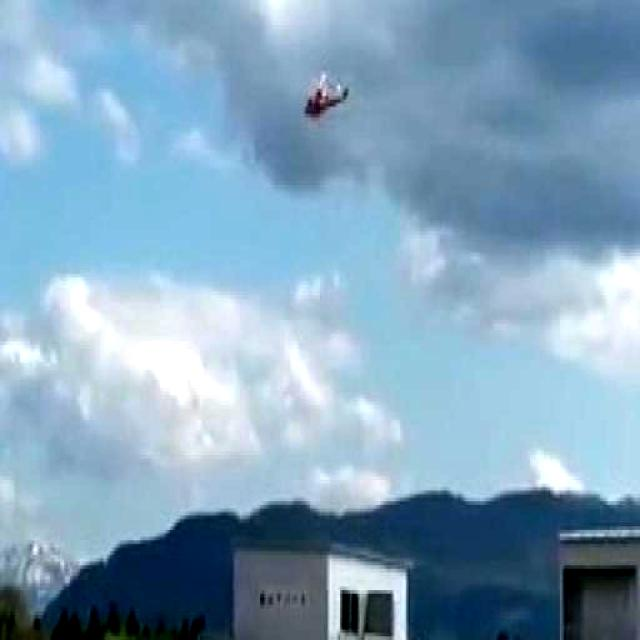drone: (299, 71, 354, 128)
